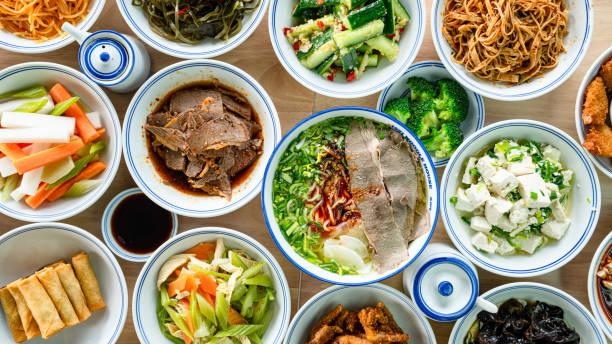Braised Crucian Carp: (258, 106, 436, 286), (440, 119, 601, 277), (122, 59, 276, 216), (1, 62, 122, 222), (130, 226, 287, 342), (434, 0, 592, 102), (2, 222, 129, 343), (267, 0, 422, 99)
